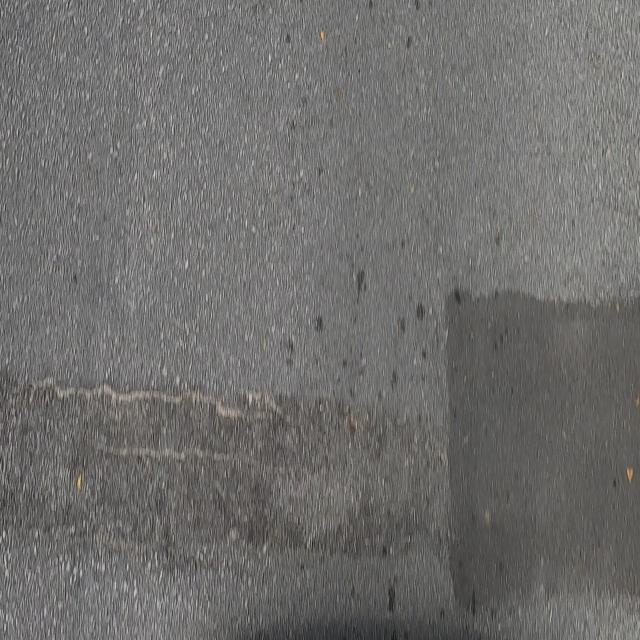Retak-Melintang: (16, 374, 299, 430), (91, 437, 315, 478)
